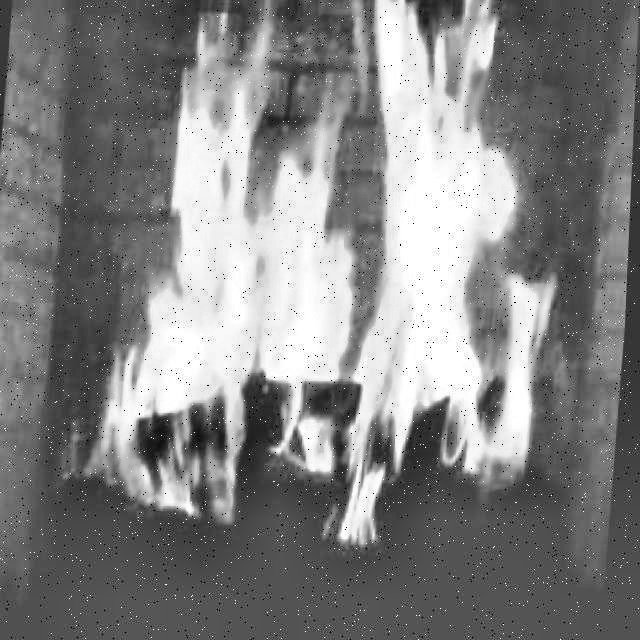Fire: (67, 0, 575, 567)
